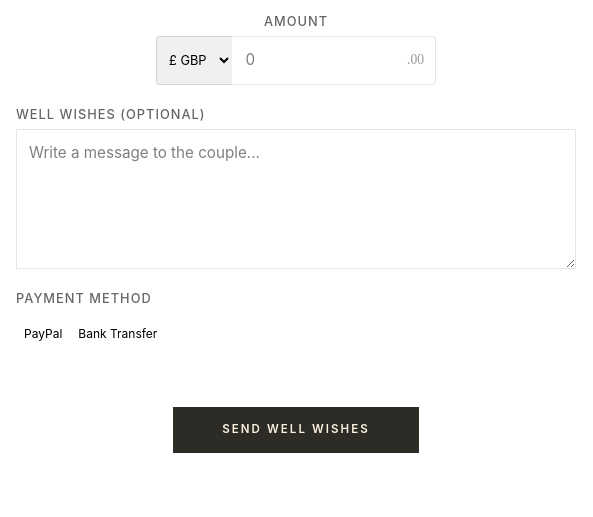
GiftContributionForm › resets payment method when switching currency
Note: Multiple methods for GBP: PayPal, Bank Transfer
Click the button "PayPal". click: (43, 334)
box: [16,313,70,355]
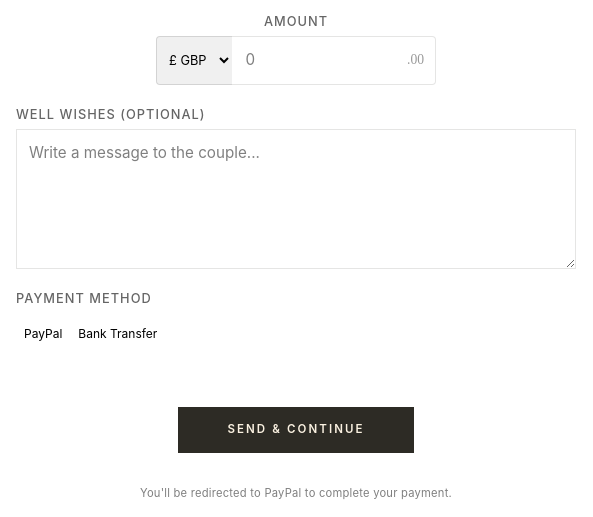
Note: Switch currency to USD — payment method should reset (PayPal no longer available)
Select "$ USD" in the dropdown. click: (194, 60)
box: [156,36,232,85]
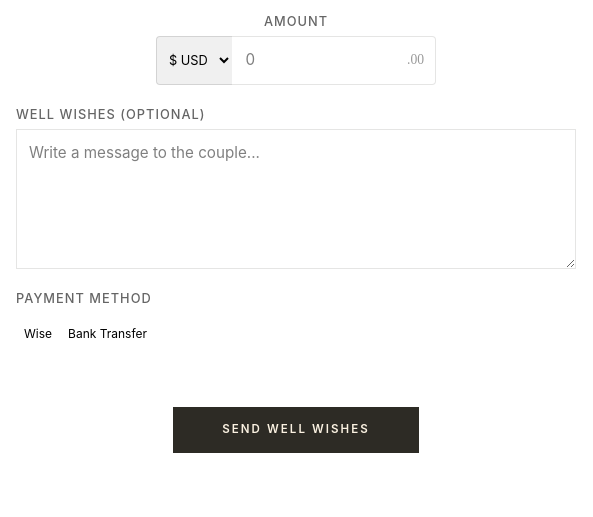
Check: the button "PayPal" is gone
